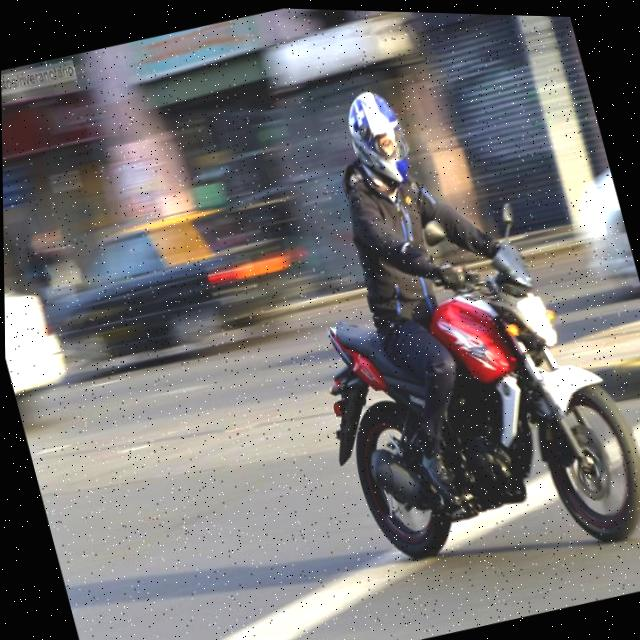motorcycle: (267, 207, 640, 609)
plate: (1, 53, 82, 119)
